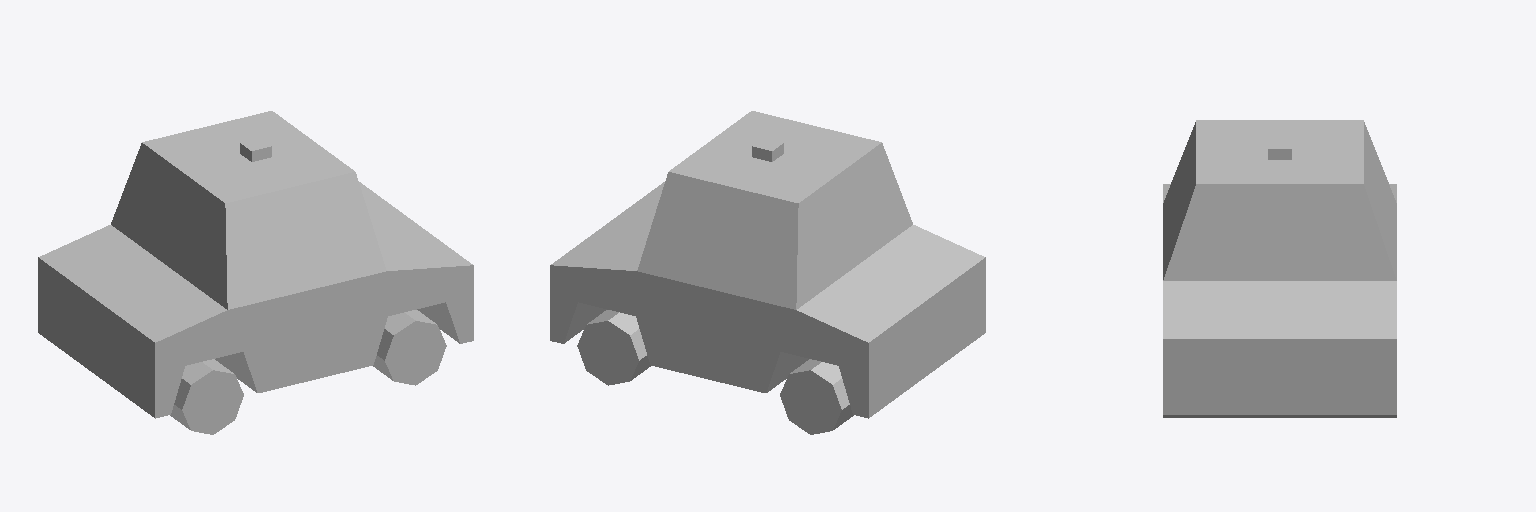
Rendered from car6.obj.
3 renders of one model, left to right at view 1: azimuth 30°, elevation 25°; view 2: azimuth 150°, elevation 25°; view 3: azimuth 270°, elevation 25°, orthographic.
Parts seen in each view (by area): view 1: Plane_Plane.004; view 2: Plane_Plane.004; view 3: Plane_Plane.004.
Boxes of the visible parts, x1,y1,x2,y2 form: Plane_Plane.004: [38, 111, 473, 434]; Plane_Plane.004: [550, 111, 985, 434]; Plane_Plane.004: [1163, 120, 1396, 417].
Size of the model in its own units: 2.75 by 1.84 by 1.75.